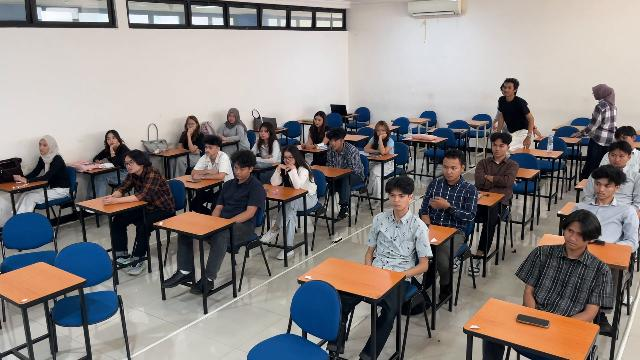fokus: (32, 128, 62, 169), (564, 223, 587, 249), (389, 191, 408, 210), (594, 179, 612, 198), (443, 159, 458, 180), (610, 150, 625, 167), (124, 156, 138, 173), (492, 140, 506, 157), (233, 163, 247, 179), (617, 134, 633, 146), (283, 152, 295, 167), (260, 126, 271, 139), (205, 144, 216, 156), (377, 125, 387, 138), (329, 138, 340, 149), (107, 134, 117, 146), (314, 115, 324, 127), (228, 112, 238, 123), (188, 119, 196, 131)
